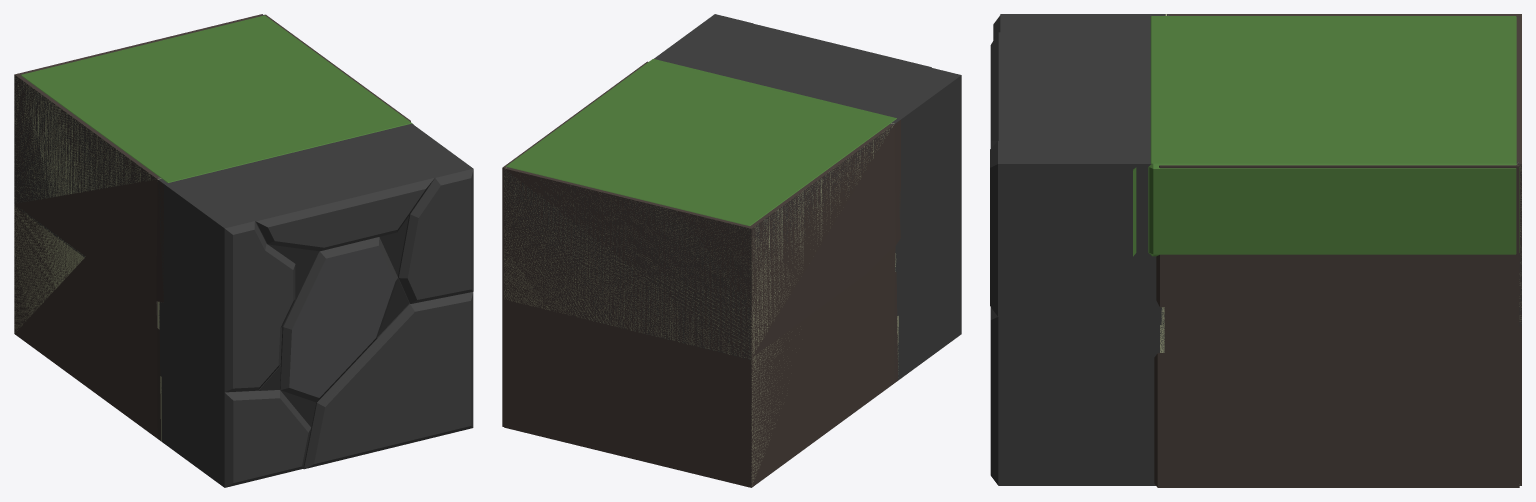
File: Block1.fbx
3 renders of one model, left to right at view 1: azimuth 30°, elevation 25°; view 2: azimuth 150°, elevation 25°; view 3: azimuth 270°, elevation 25°, orthographic. The views are drawn at different scales.
Visible parts, largest first — view 1: Cube.009, Cube, Cube.001, Cube.011, Cube.006, Cube.005, Cube.004; view 2: Cube.001, Cube, Cube.009, Cube.004, Cube.010, Cube.011, Cube.007, Cube.006, Cube.005, Cube.003; view 3: Cube, Cube.003, Cube.009, Cube.001.
Part boxes in pixels (left/top/right/bottom): Cube.009: left=81, top=123, right=473, bottom=487; Cube: left=21, top=15, right=413, bottom=182; Cube.001: left=14, top=14, right=263, bottom=440; Cube.011: left=15, top=87, right=157, bottom=308; Cube.006: left=14, top=78, right=161, bottom=441; Cube.005: left=14, top=77, right=160, bottom=246; Cube.004: left=14, top=14, right=263, bottom=257; Cube.001: left=504, top=120, right=900, bottom=487; Cube: left=506, top=59, right=896, bottom=225; Cube.009: left=654, top=14, right=961, bottom=380; Cube.004: left=504, top=123, right=893, bottom=359; Cube.010: left=504, top=142, right=879, bottom=358; Cube.011: left=504, top=124, right=895, bottom=357; Cube.007: left=504, top=138, right=895, bottom=359; Cube.006: left=506, top=123, right=898, bottom=485; Cube.005: left=504, top=123, right=893, bottom=350; Cube.003: left=502, top=61, right=647, bottom=426; Cube: left=1133, top=16, right=1519, bottom=256; Cube.003: left=1154, top=164, right=1519, bottom=487; Cube.009: left=990, top=14, right=1165, bottom=485; Cube.001: left=1167, top=14, right=1521, bottom=485.
Bounding box in the file's own units: 203 × 201 × 300.
